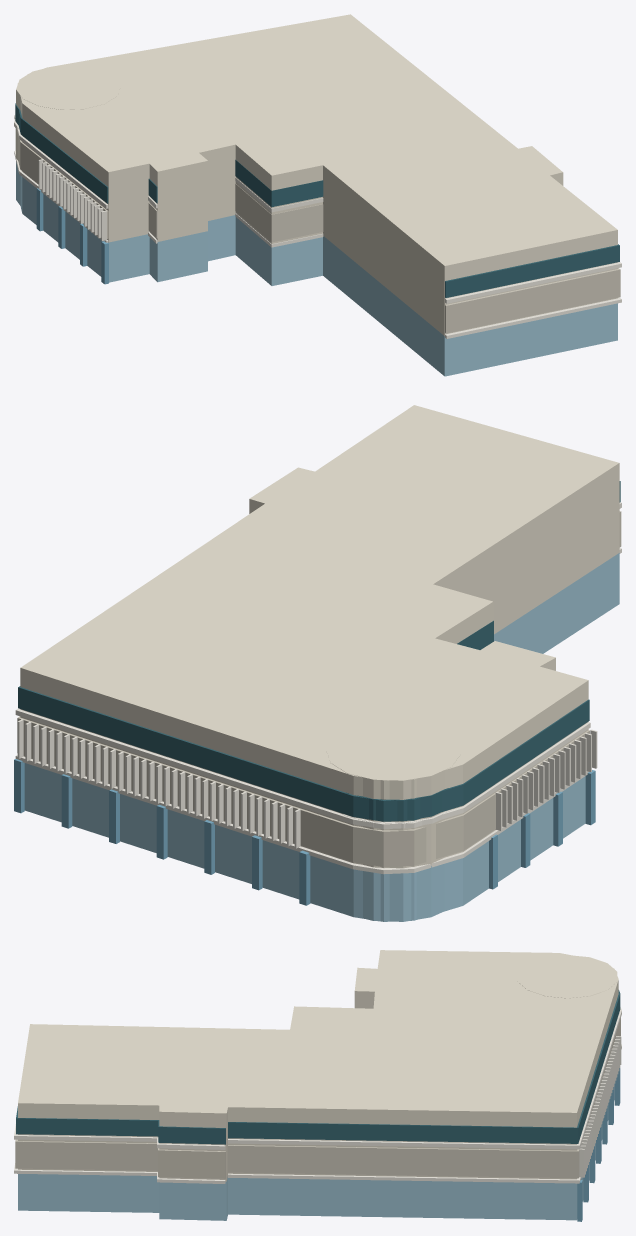
File: ora_expolis.glb
The picture shows the model from 3 angles, top to bottom: view 1: azimuth 30°, elevation 25°; view 2: azimuth 150°, elevation 25°; view 3: azimuth 270°, elevation 25°; orthographic projection. The views are drawn at different scales.
Parts seen in each view (by area): view 1: ora_expolis_lod0; view 2: ora_expolis_lod0; view 3: ora_expolis_lod0.
Boxes of the visible parts, x1,y1,x2,y2 form: ora_expolis_lod0: (14,14,621,376); ora_expolis_lod0: (14,405,621,921); ora_expolis_lod0: (14,950,621,1221).
Size of what is drawn, in the model's own units: 29.44 by 8.84 by 45.14.
